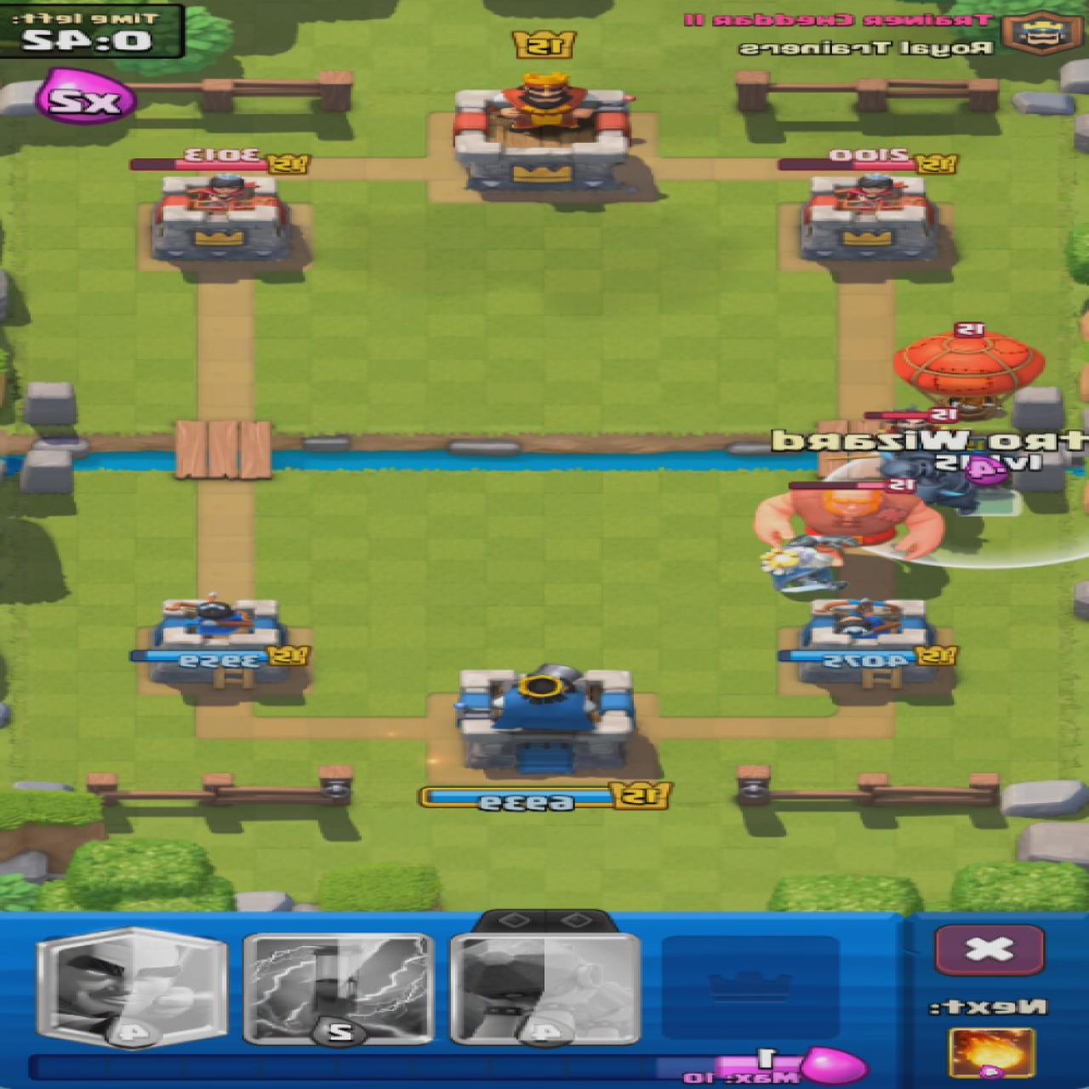Enemy-Balloon: (895, 323, 1043, 420)
Enemy-ElectroWizard: (893, 420, 930, 433)
Enemy-Giant: (756, 488, 943, 555)
Enemy-KingTower: (455, 73, 632, 193)
Enemy-PrincessTower: (802, 172, 939, 260), (155, 173, 290, 262)
